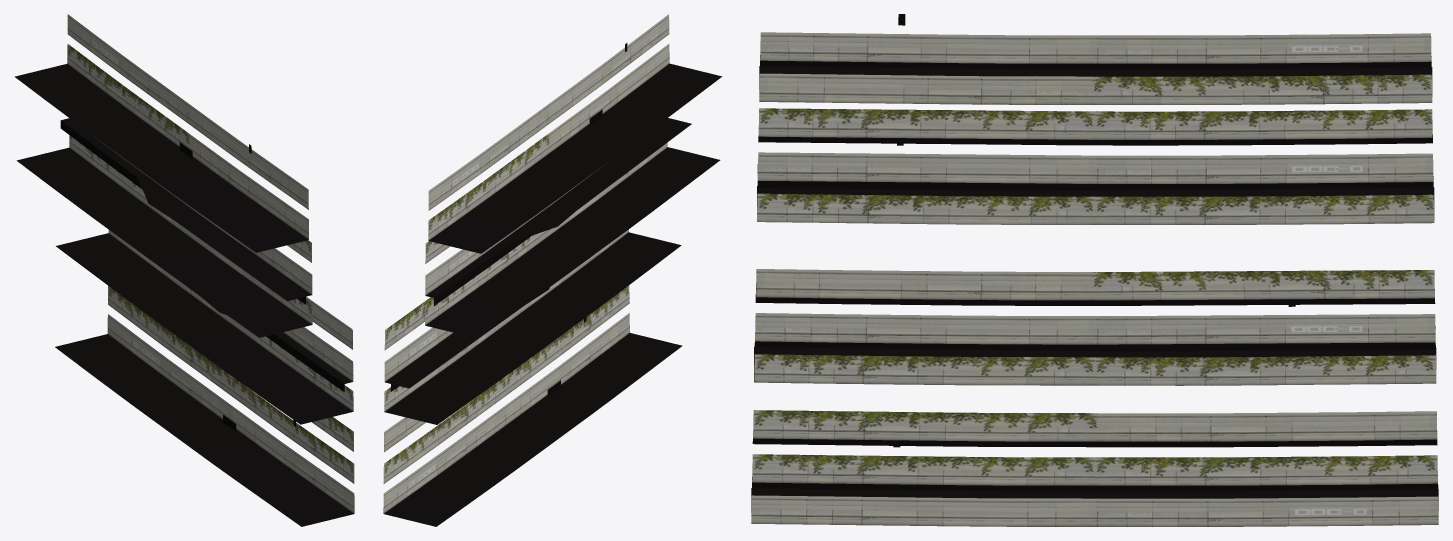
File: STA20_WIndowsectiontall01.FBX
3 renders of one model, left to right at view 1: azimuth 30°, elevation 25°; view 2: azimuth 150°, elevation 25°; view 3: azimuth 270°, elevation 25°, orthographic. The views are drawn at different scales.
Visible parts, largest first — view 1: STA20_WIndowsectiontall01; view 2: STA20_WIndowsectiontall01; view 3: STA20_WIndowsectiontall01.
Part boxes in pixels (bbox=[...]): STA20_WIndowsectiontall01: bbox=[14, 14, 354, 526]; STA20_WIndowsectiontall01: bbox=[383, 14, 722, 526]; STA20_WIndowsectiontall01: bbox=[751, 14, 1438, 526].
Size of the model in its own units: 25.53 by 87.53 by 114.
